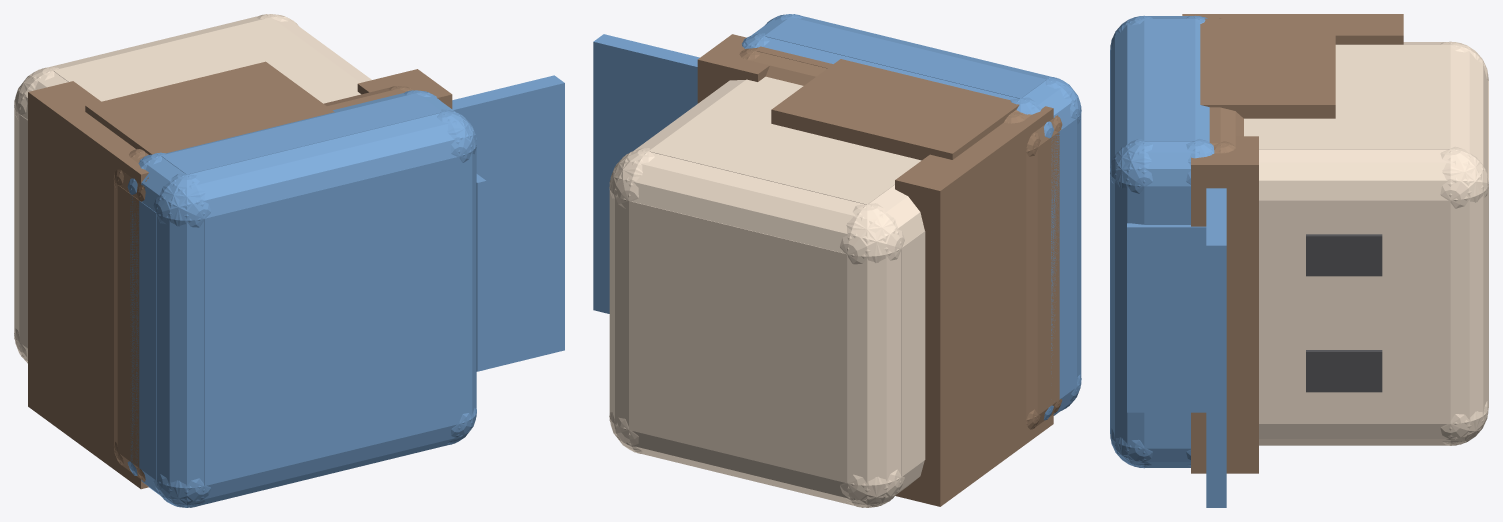
Rendered from head.glb.
3 renders of one model, left to right at view 1: azimuth 30°, elevation 25°; view 2: azimuth 150°, elevation 25°; view 3: azimuth 270°, elevation 25°, orthographic. The views are drawn at different scales.
Parts seen in each view (by area): view 1: cap_z_visual, hair_back_visual, cap_brim_visual, cap_edge5_visual, cap_edge3_visual, hair_side_left_visual, head_y_visual, cap_y_visual, hair_top_x_visual, cap_x_visual, cap_edge1_visual, cap_edge7_visual (+11 smaller); view 2: head_z_visual, hair_back_visual, hair_side_left_visual, head_y_visual, head_edge4_visual, cap_brim_visual, head_edge2_visual, cap_y_visual, hair_top_x_visual, head_x_visual, cap_x_visual, head_edge0_visual (+12 smaller); view 3: head_x_visual, cap_front_visual, head_y_visual, hair_fringe_visual, hair_side_left_visual, head_edge11_visual, head_edge6_visual, cap_brim_visual, cap_y_visual, cap_edge7_visual, cap_edge3_visual, head_edge2_visual (+12 smaller).
Boxes of the visible parts, box(x1,y1,x2,y2) form: cap_z_visual: box(204, 156, 459, 485); hair_back_visual: box(28, 81, 148, 489); cap_brim_visual: box(452, 75, 564, 371); cap_edge5_visual: box(156, 173, 205, 507); cap_edge3_visual: box(153, 111, 476, 226); hair_side_left_visual: box(85, 61, 334, 154); head_y_visual: box(53, 17, 360, 103); cap_y_visual: box(161, 93, 441, 174); hair_top_x_visual: box(117, 185, 139, 467); cap_x_visual: box(130, 195, 156, 480); cap_edge1_visual: box(153, 408, 476, 507); cap_edge7_visual: box(437, 109, 476, 444); head_z_visual: box(629, 201, 847, 483); hair_back_visual: box(895, 106, 1053, 506); hair_side_left_visual: box(771, 59, 1019, 160); head_y_visual: box(649, 76, 921, 204); head_edge4_visual: box(846, 203, 901, 507); cap_brim_visual: box(593, 34, 699, 313); head_edge2_visual: box(609, 150, 904, 262); cap_y_visual: box(764, 17, 1046, 98); hair_top_x_visual: box(1037, 131, 1059, 415); head_x_visual: box(901, 231, 925, 476); cap_x_visual: box(1051, 118, 1076, 399); head_edge0_visual: box(609, 412, 904, 507); head_x_visual: box(1259, 200, 1450, 423); cap_front_visual: box(1127, 223, 1206, 412); head_y_visual: box(1244, 45, 1450, 149); hair_fringe_visual: box(1191, 136, 1258, 473); hair_side_left_visual: box(1200, 18, 1335, 118); head_edge11_visual: box(1259, 149, 1488, 202); head_edge6_visual: box(1440, 146, 1488, 445); cap_brim_visual: box(1206, 188, 1226, 507); cap_y_visual: box(1144, 19, 1195, 141); cap_edge7_visual: box(1110, 139, 1152, 467); cap_edge3_visual: box(1110, 15, 1152, 193); head_edge2_visual: box(1440, 41, 1488, 208).
Bounding box in the file's own units: 0.585 × 0.42 × 0.445.
